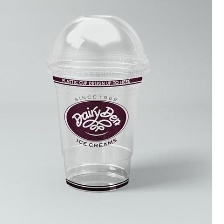glass: (40, 9, 153, 199)
